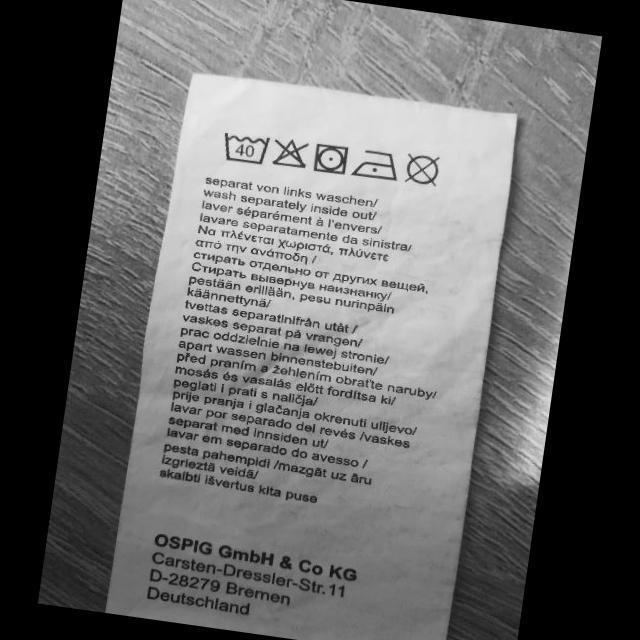40C: (218, 128, 272, 170)
DN_bleach: (268, 134, 312, 172)
DN_dry_clean: (400, 148, 444, 189)
iron_low: (348, 144, 404, 185)
tumble_dry_low: (310, 142, 350, 180)
